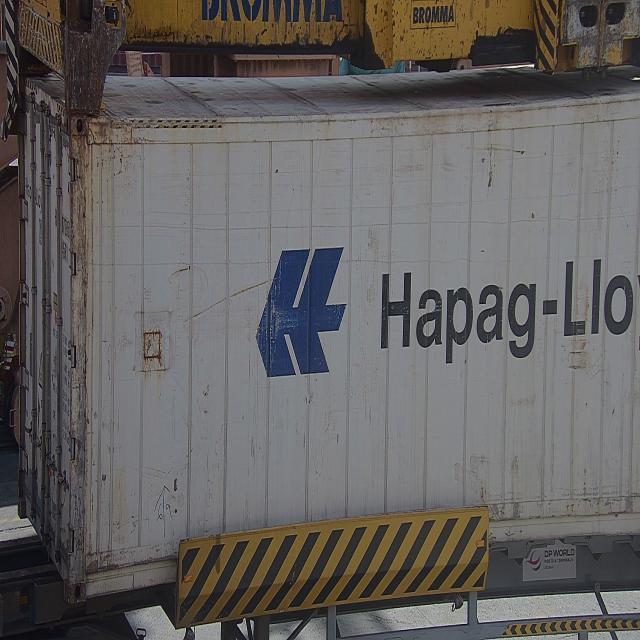rust: (32, 86, 90, 202), (136, 318, 171, 385)
